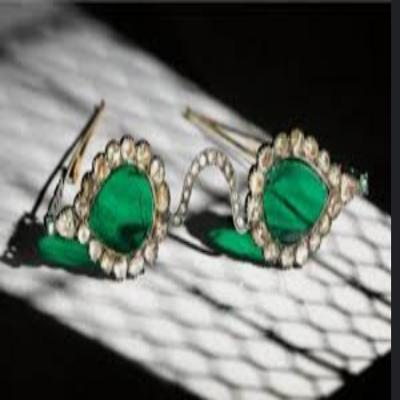glasses: (36, 93, 368, 290)
